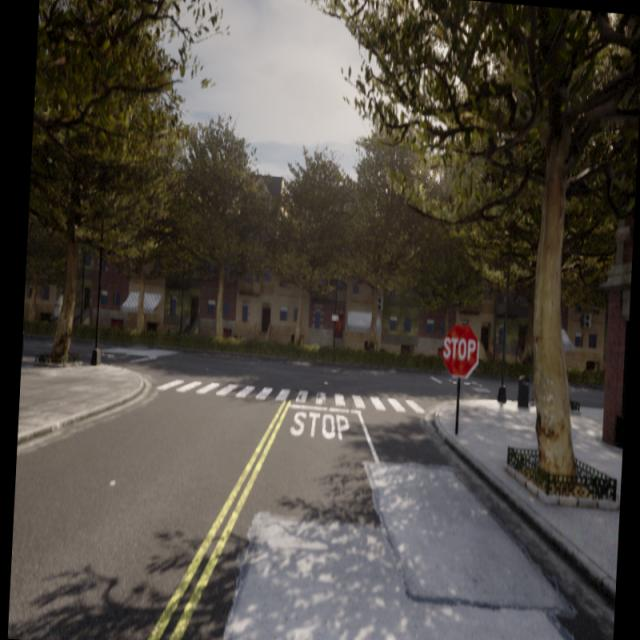stop sign: (439, 321, 480, 380), (442, 335, 476, 363)
